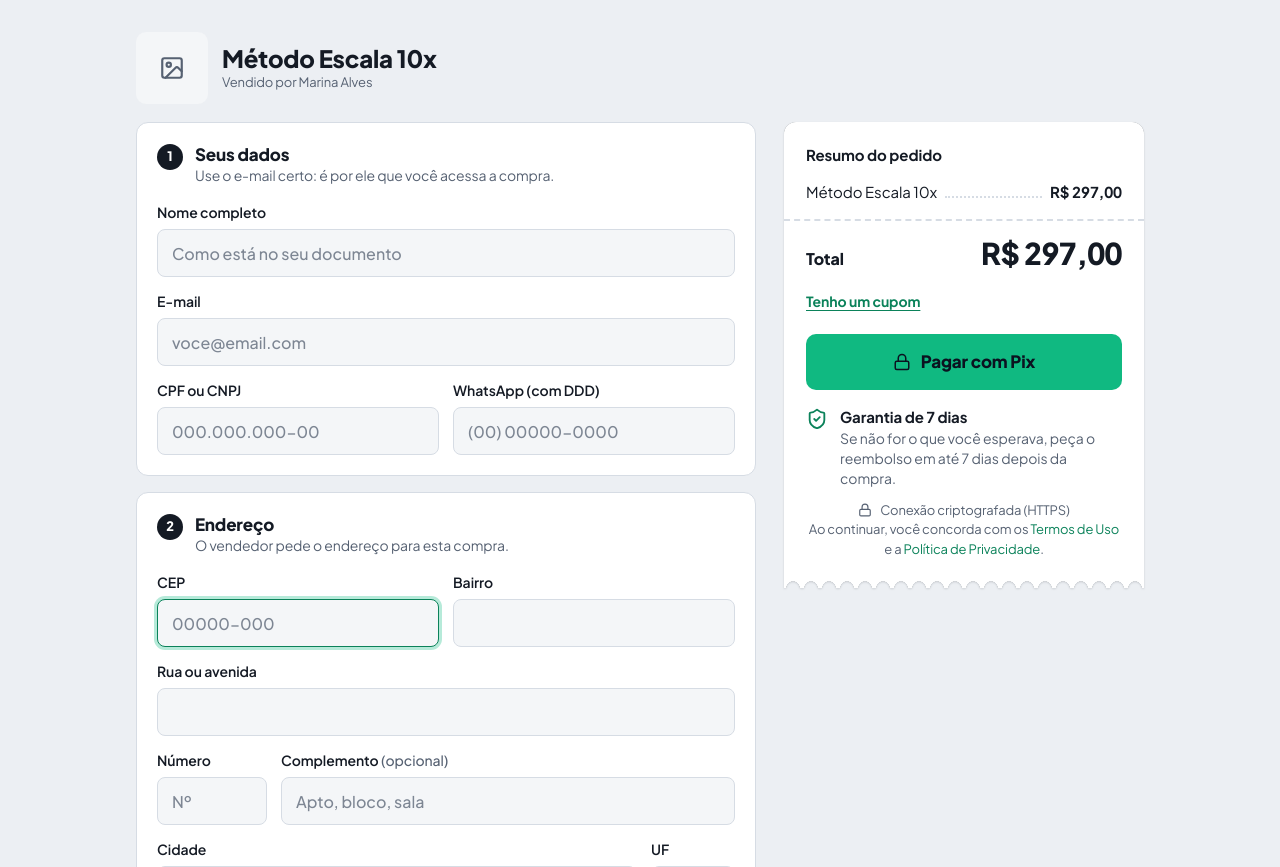
Test: checkout público: endereço › busca o CEP, preenche o endereço e leva o foco ao número
Expected: the heading "Endereço" is shown, [195,513,274,535]
In the field labelled "CEP": (298, 623) [157,599,439,647], type "87013000"
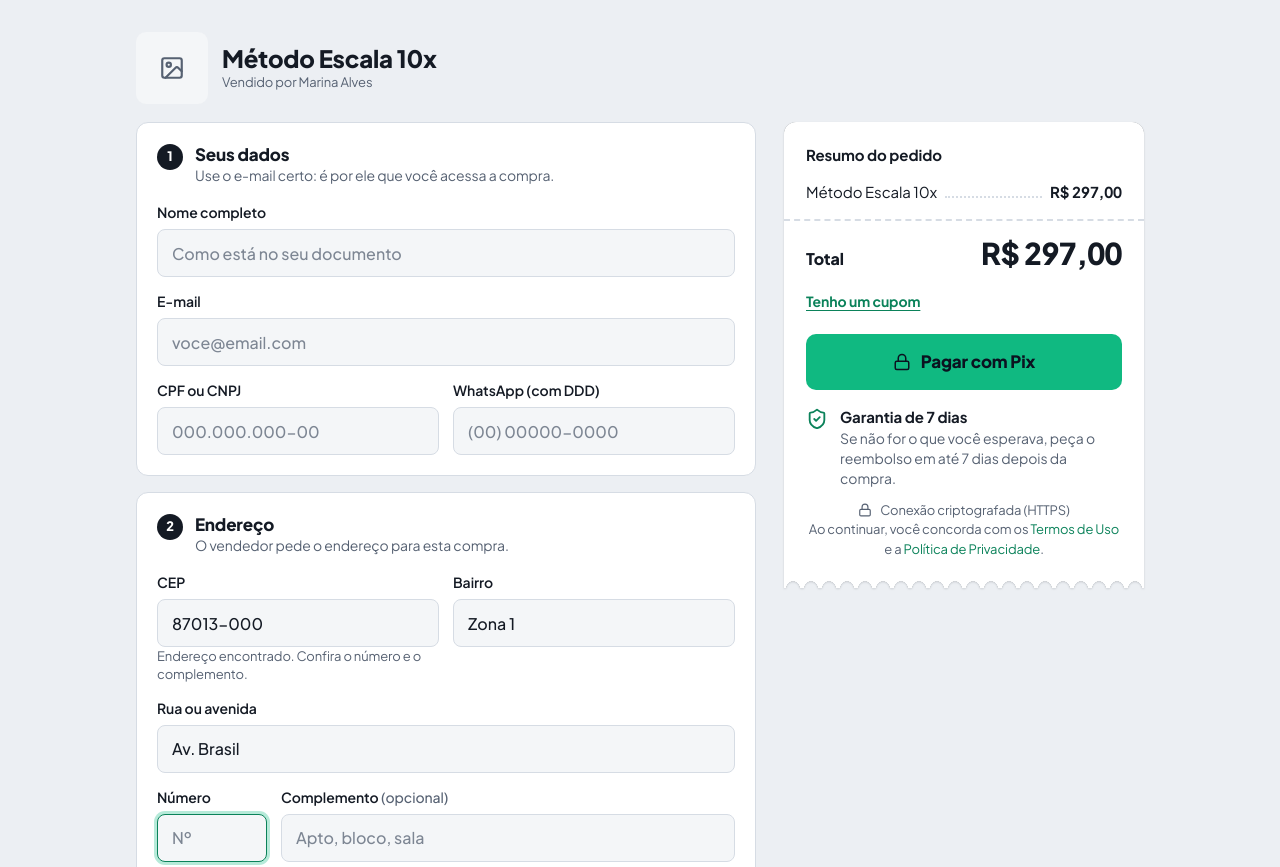
Now the field labelled "Rua ou avenida" holds "Av. Brasil", box [157,725,735,773]
Now the field labelled "Bairro" holds "Zona 1", box [453,599,735,647]
Now the text "Endereço encontrado. Confira o número e o complemento." is shown, box [157,647,439,684]
